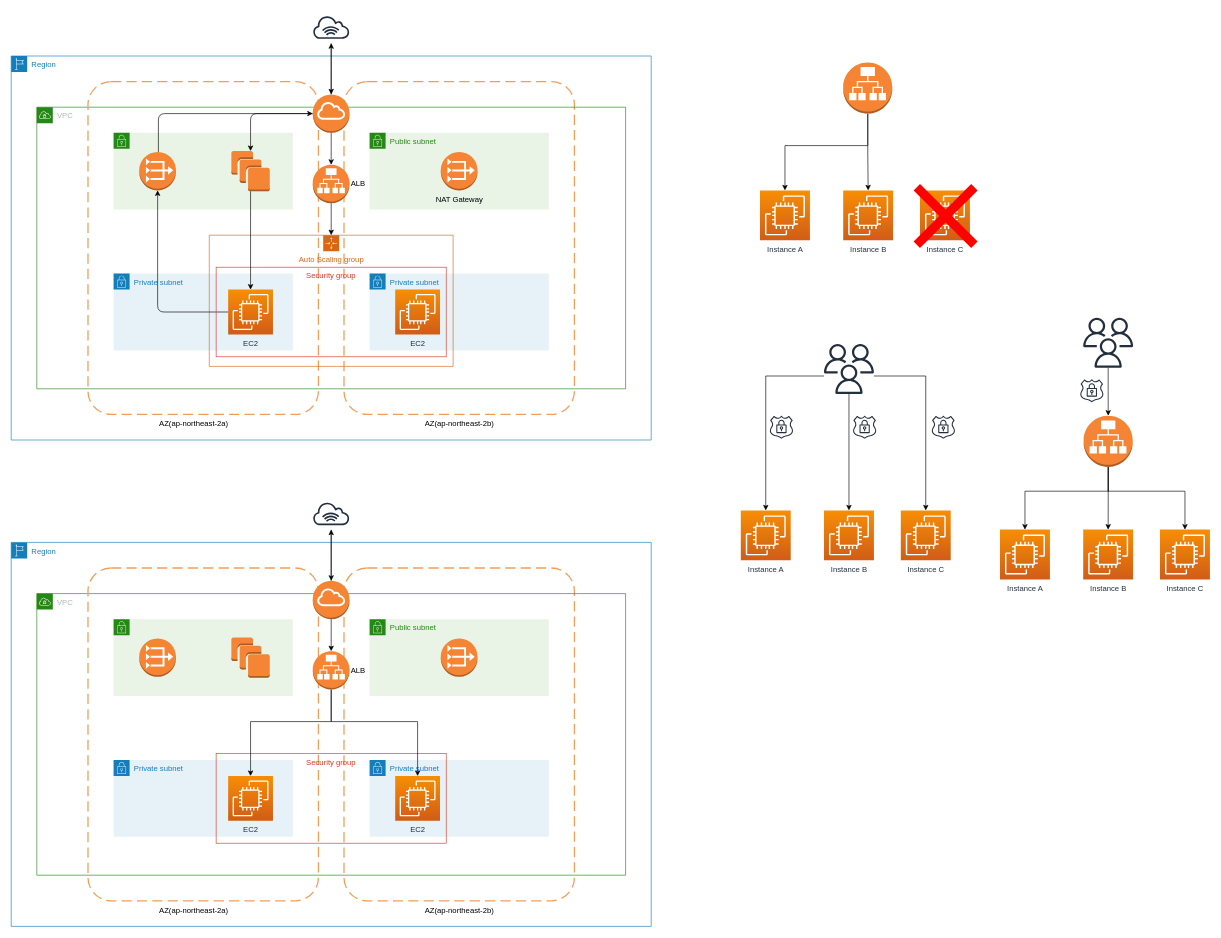
Some shapes in this 1221 by 938 pixel diagram are drawn without their labels. The centre of each missing label's shape, as x and y in pixels:
"Bastion Host" goes at pixel 250 170.
"Internet Gateway" goes at pixel 331 113.
